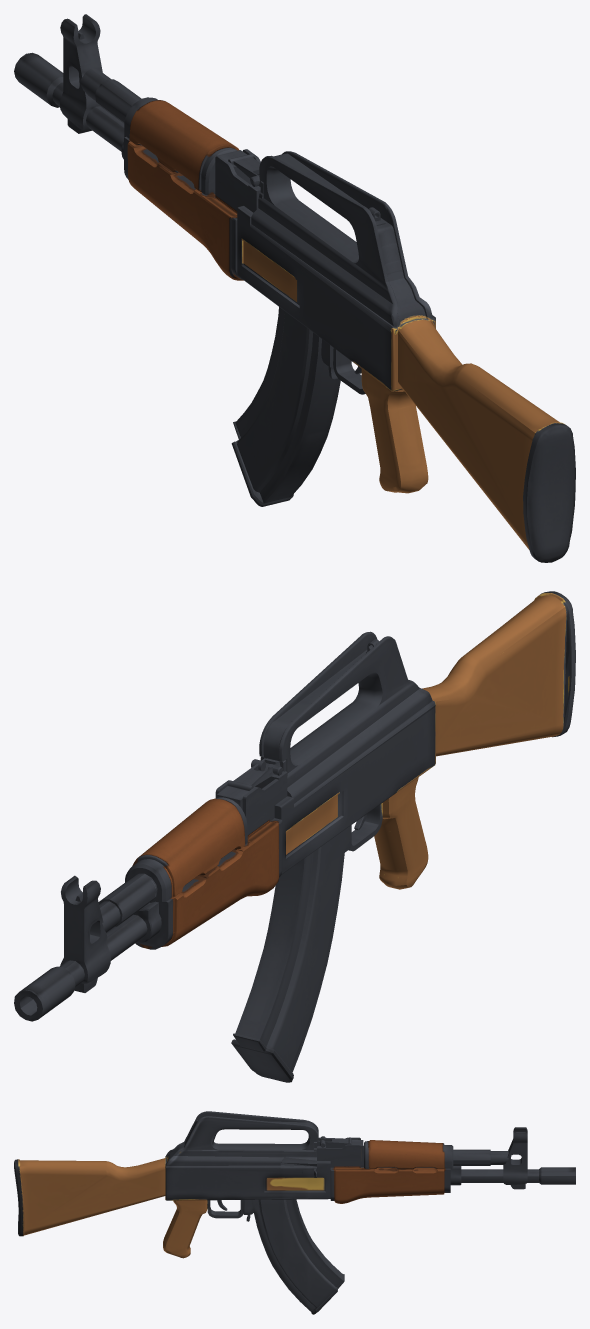
File: ravage.glb
The picture shows the model from 3 angles, top to bottom: view 1: azimuth 30°, elevation 25°; view 2: azimuth 150°, elevation 25°; view 3: azimuth 270°, elevation 25°; orthographic projection. The views are drawn at different scales.
Parts seen in each view (by area): view 1: wpn_ravage; view 2: wpn_ravage; view 3: wpn_ravage.
Boxes of the visible parts, x1,y1,x2,y2 form: wpn_ravage: (14,14,575,562); wpn_ravage: (14,591,575,1082); wpn_ravage: (14,1111,575,1314).
Size of the model in its own units: 0.0679 by 0.3661 by 0.945.
1 material, 1 textured.
